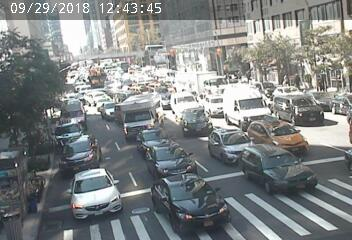car: (153, 189, 226, 218), (75, 174, 118, 211), (243, 159, 307, 182), (68, 137, 107, 165), (128, 100, 158, 129), (150, 144, 183, 169), (265, 133, 303, 153), (237, 87, 260, 116), (198, 72, 227, 91), (281, 99, 306, 120), (62, 107, 87, 121), (142, 129, 165, 144), (58, 127, 85, 139), (172, 92, 195, 106), (222, 130, 241, 146), (179, 110, 198, 122), (104, 104, 120, 117), (87, 90, 106, 99), (278, 88, 297, 96), (92, 96, 111, 104), (206, 95, 219, 106), (127, 99, 133, 100)
